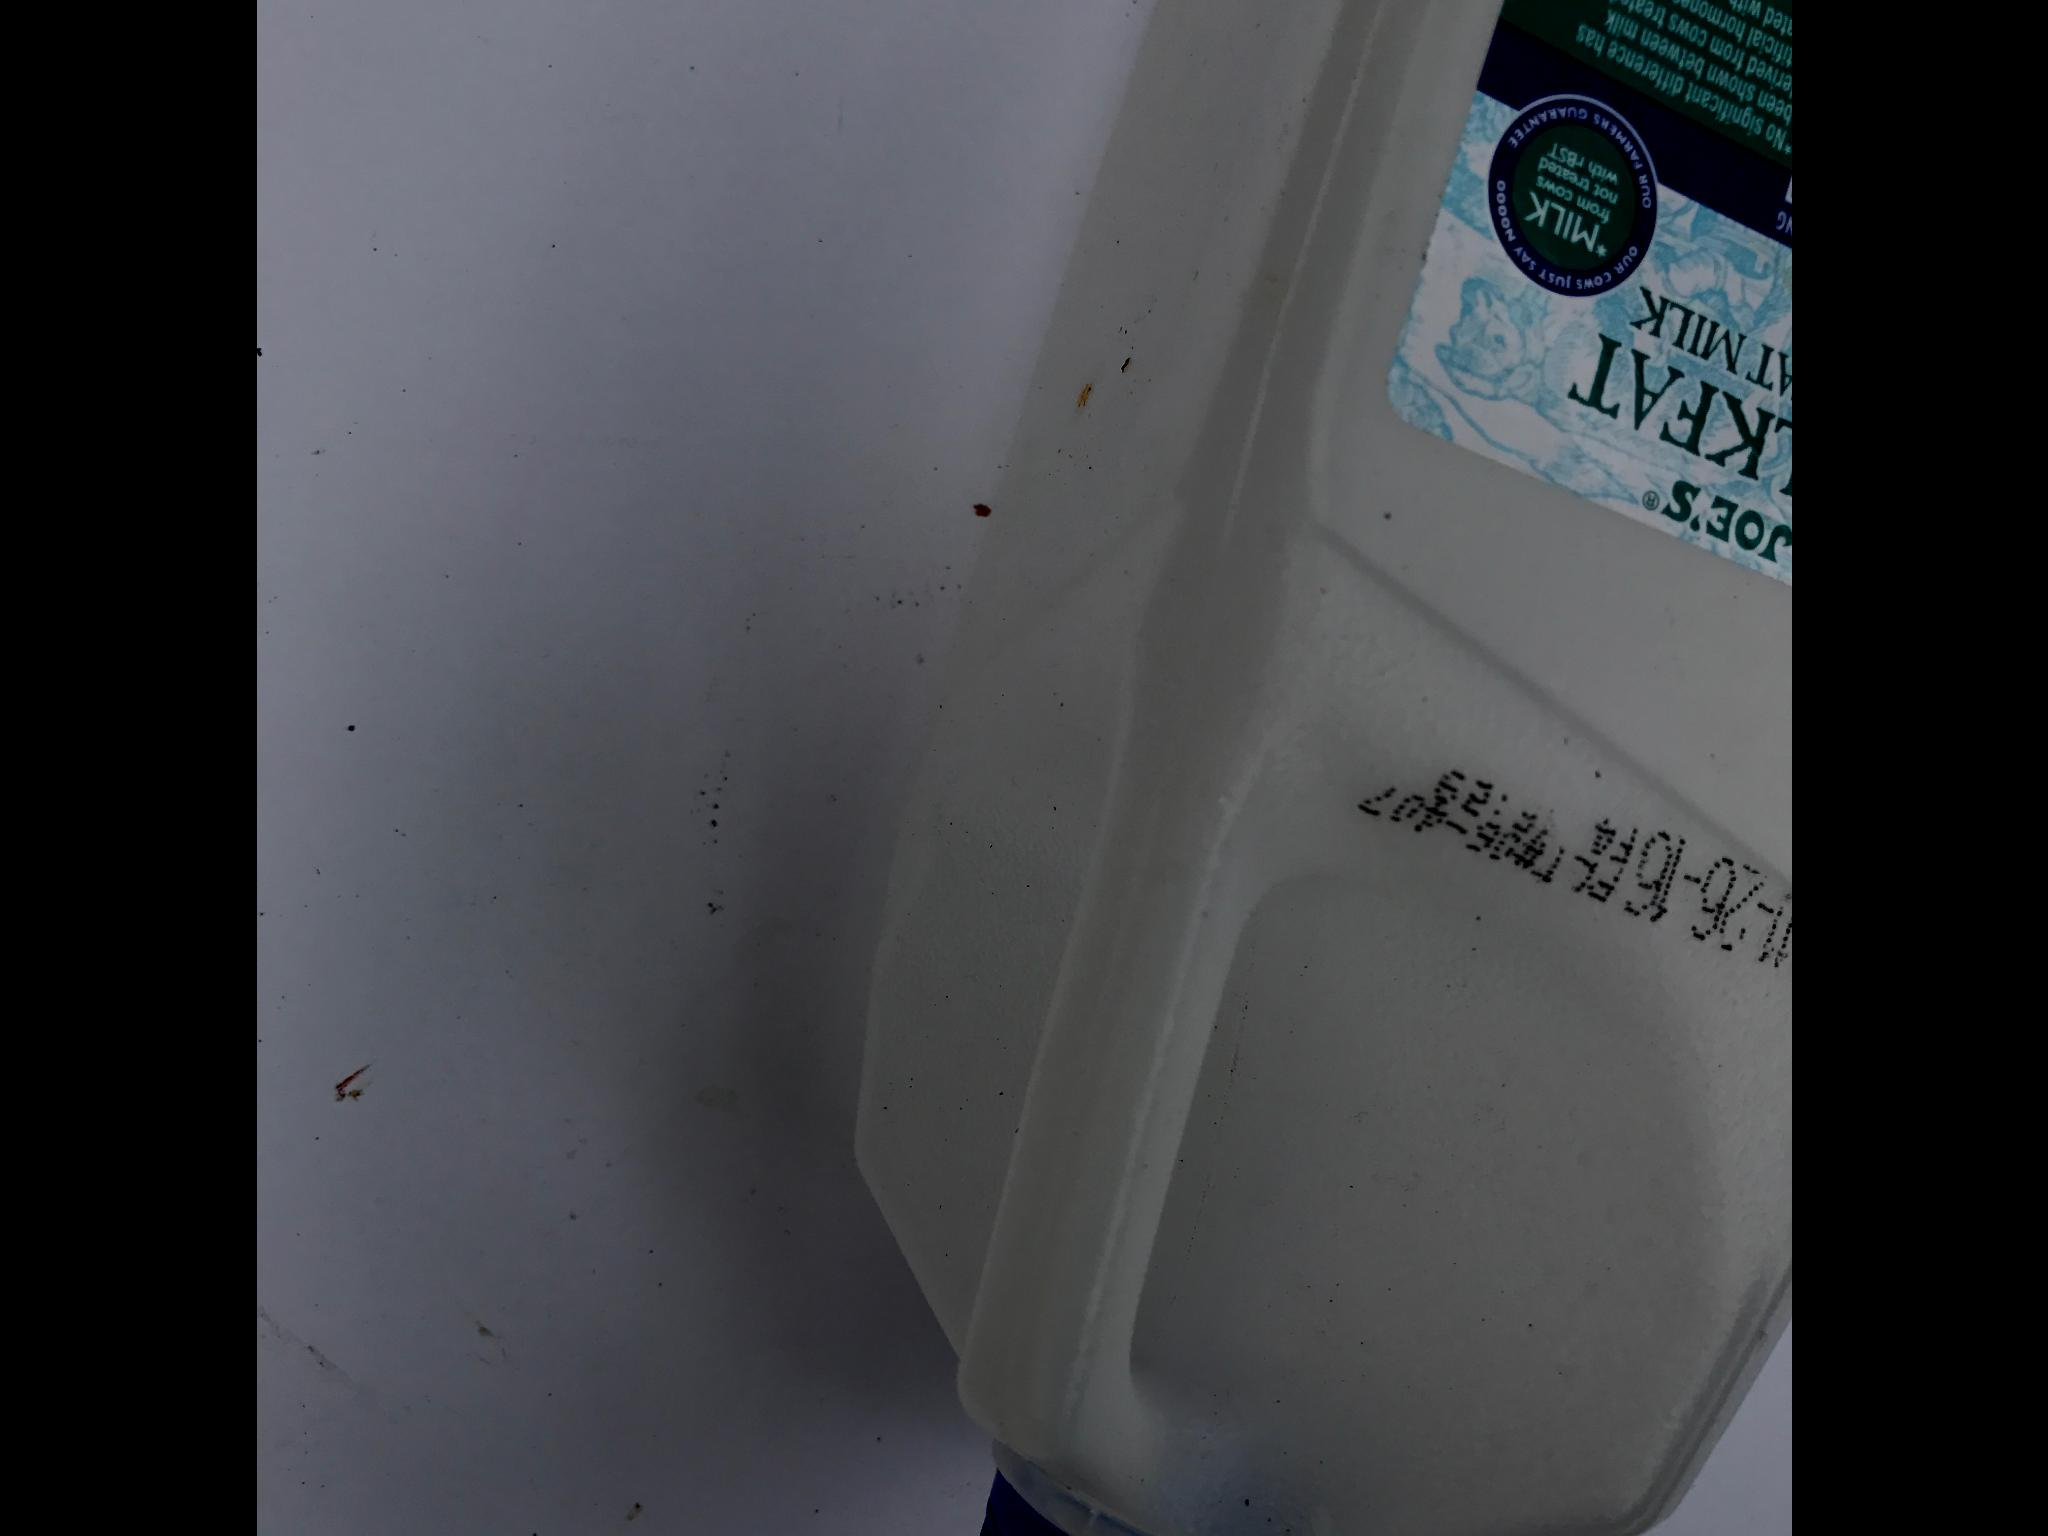Plastic: (829, 0, 1793, 1534)
